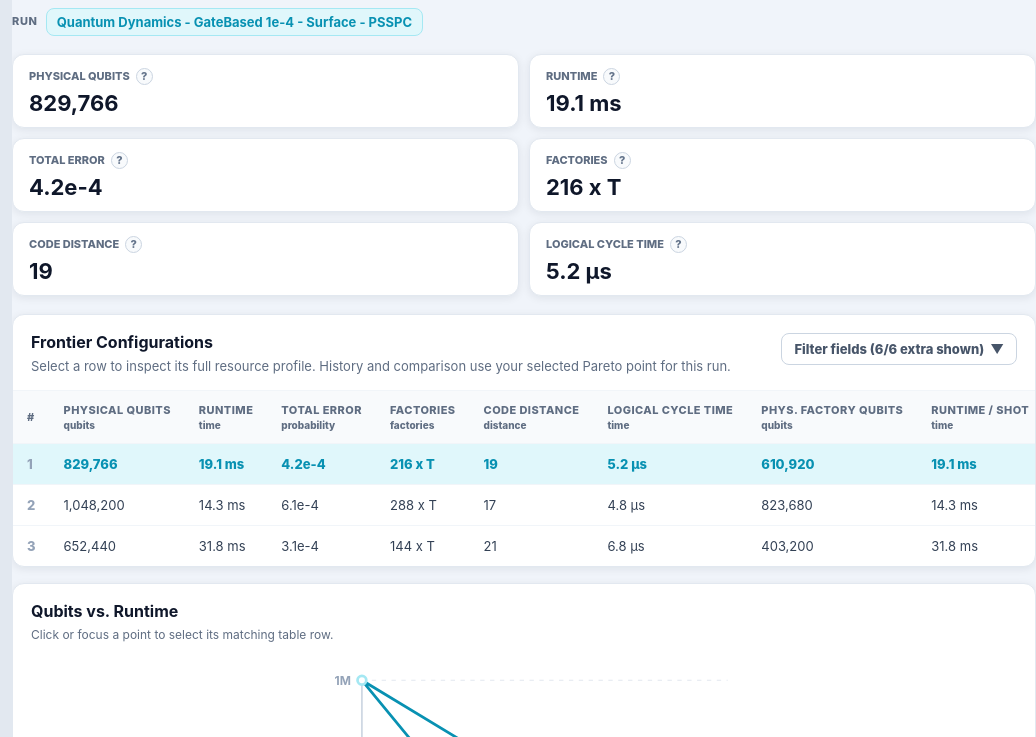
Scenario: ResultsArea field filtering › hides and re-shows an additional field across both the table and the selected-row detail
The width and height of the screenshot is (1036, 737).
Click the button "Filter fields (6/6 extra shown) ▼" at {"x": 899, "y": 349}, box [781,333,1017,365]
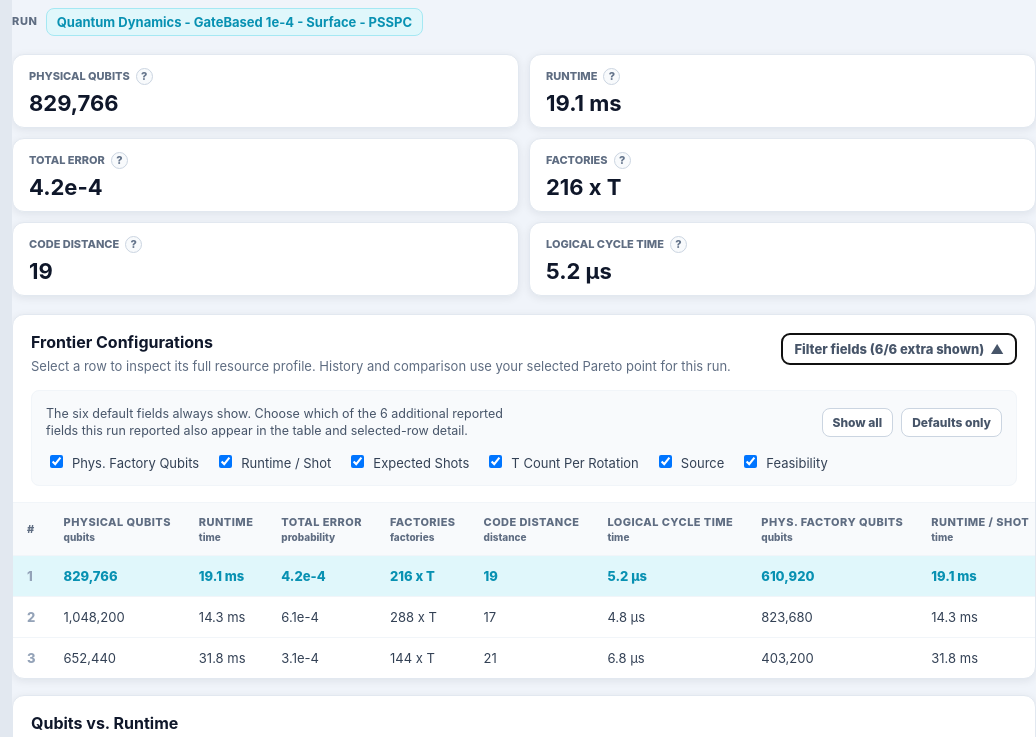
Click the checkbox labelled "Source" at {"x": 665, "y": 462}, box [659,455,672,468]
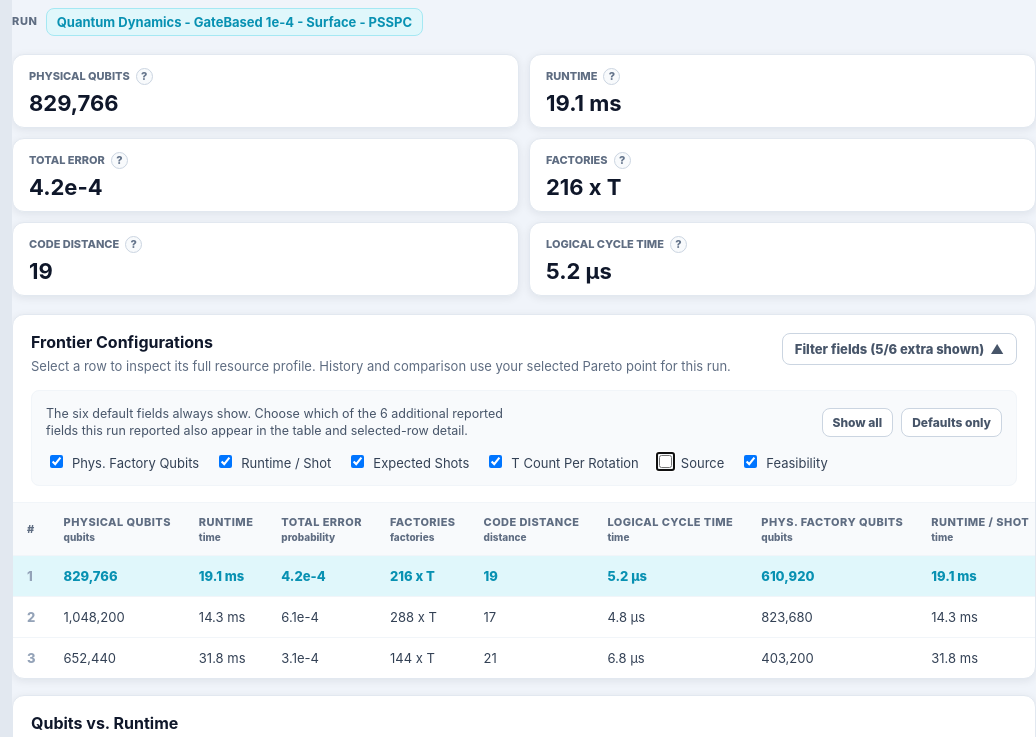
Click the checkbox labelled "Source" at {"x": 665, "y": 462}, box [659,455,672,468]
(page scrolled)
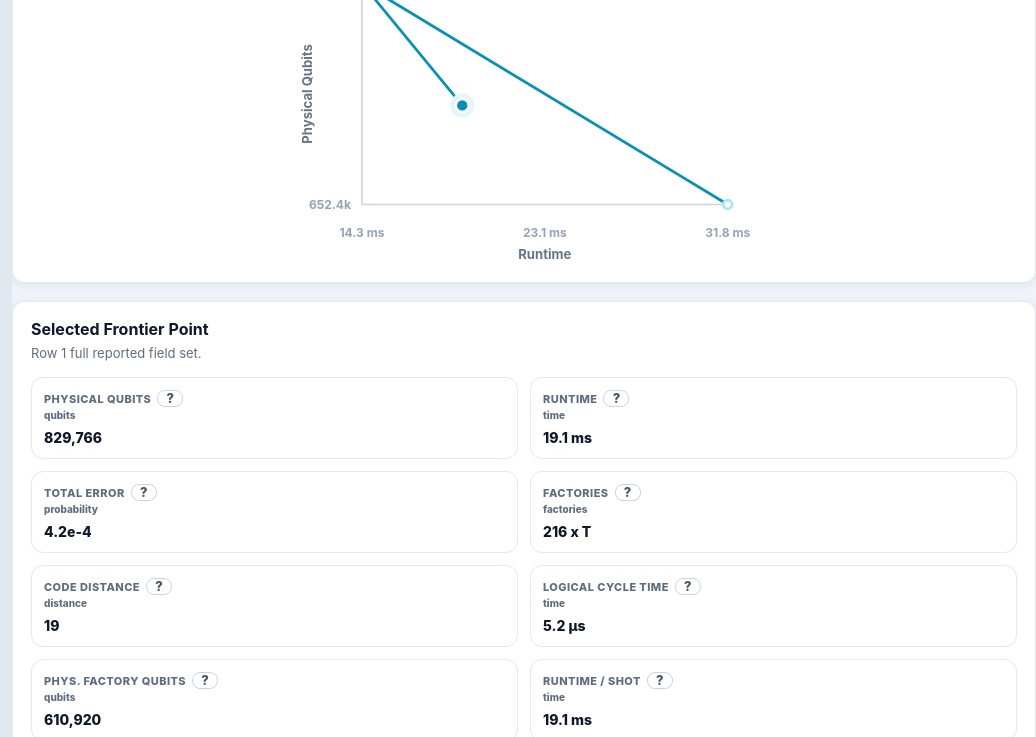
Now the text "Row 1 full reported field set." is shown, box [31,345,209,361]
